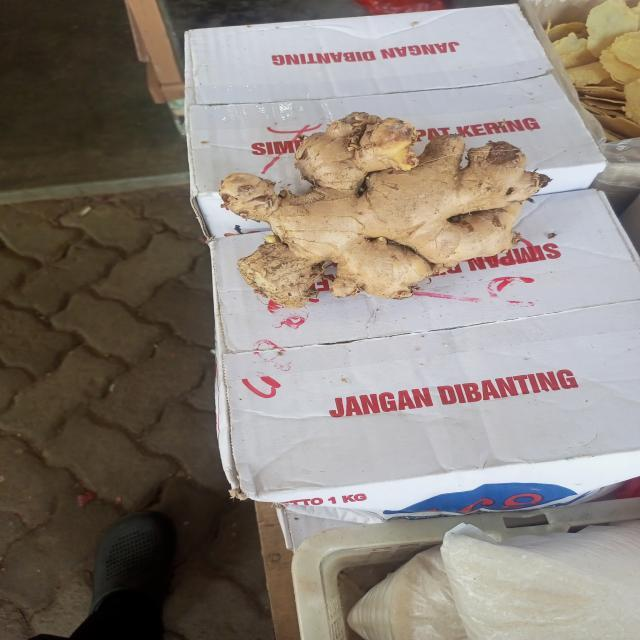ginger: (222, 116, 540, 300)
